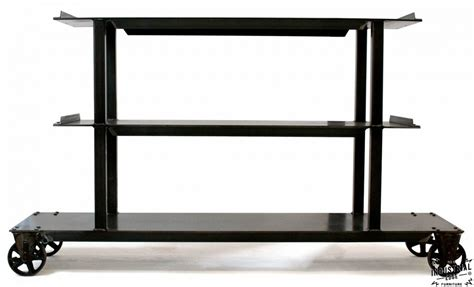Carts: (7, 12, 468, 280)
